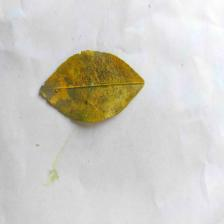black spot: (44, 49, 139, 122)
